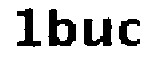1: (10, 3, 41, 49)
b: (45, 4, 76, 49)
c: (115, 15, 145, 49)
u: (80, 15, 112, 48)
